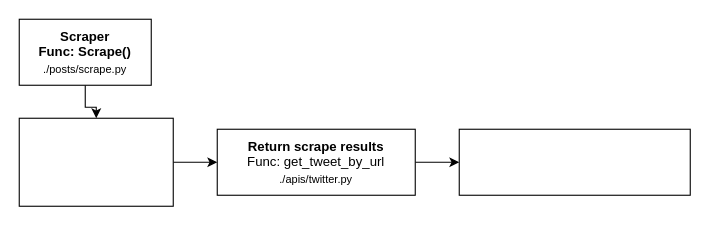
This 710x226 diagram has some shape labels left out. Here are the shapes that lost their labels. From the top down, the centre of each, then its label:
At (x=95, y=161): "Func: scrape_twitter ./posts/twitter.py".
At (x=574, y=161): "Class TwitterScraper Here the post get scraped ./apis/twitter_scraper.py".
